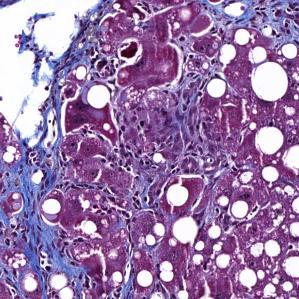fibrosis: (4, 140, 67, 272), (192, 0, 299, 53), (33, 222, 93, 294)
